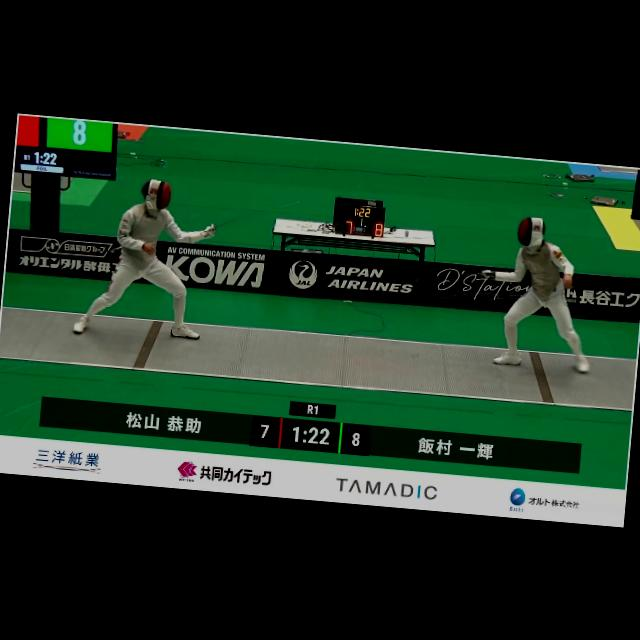blade: (202, 186, 302, 245), (388, 258, 496, 300)
